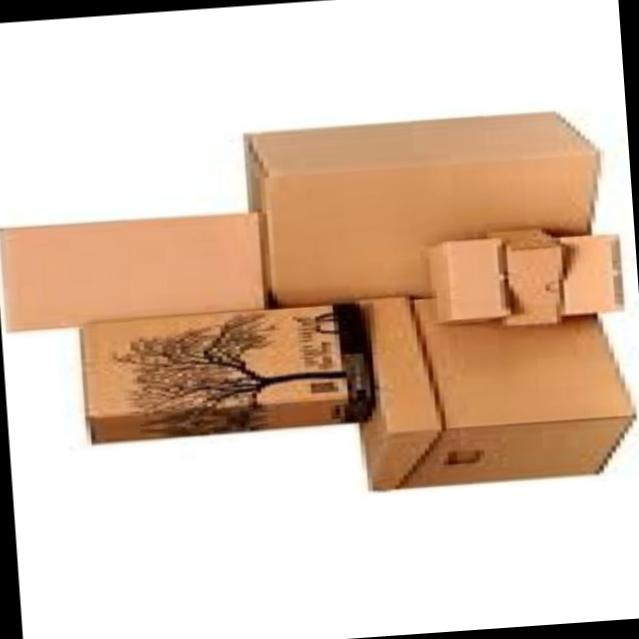cardboard paper: (243, 113, 594, 307), (78, 304, 370, 442), (0, 214, 261, 330)
